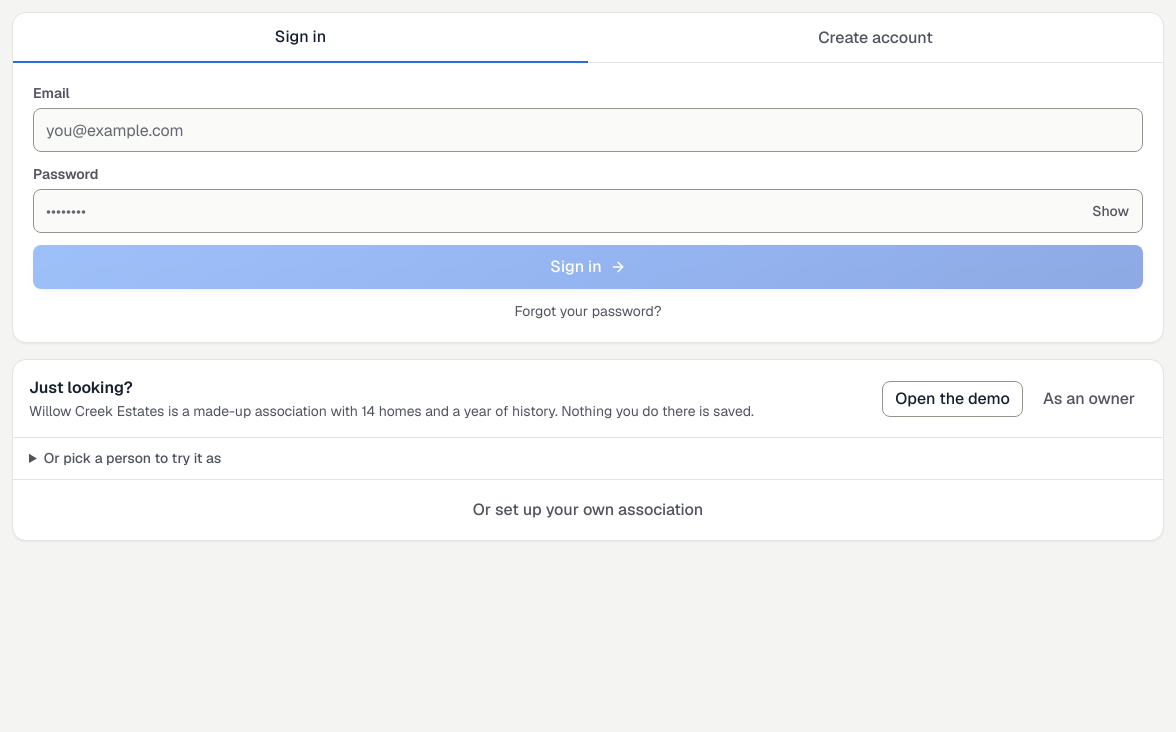
a failed sign in › does not follow the person to the Create account tab
Type "gwen@example.com" into the field labelled "Email" at (588, 130), box [33,108,1143,152]
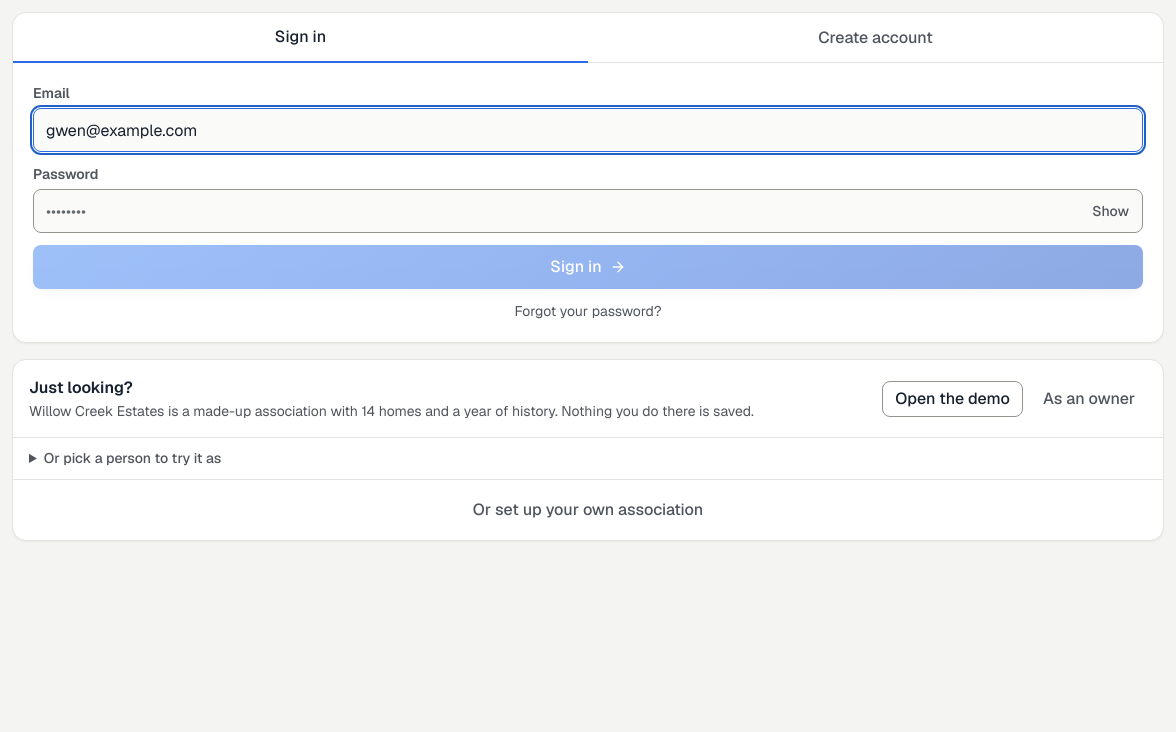
Type "wrong horse" into the password field labelled "Password Show" at (588, 211), box [33,189,1143,233]
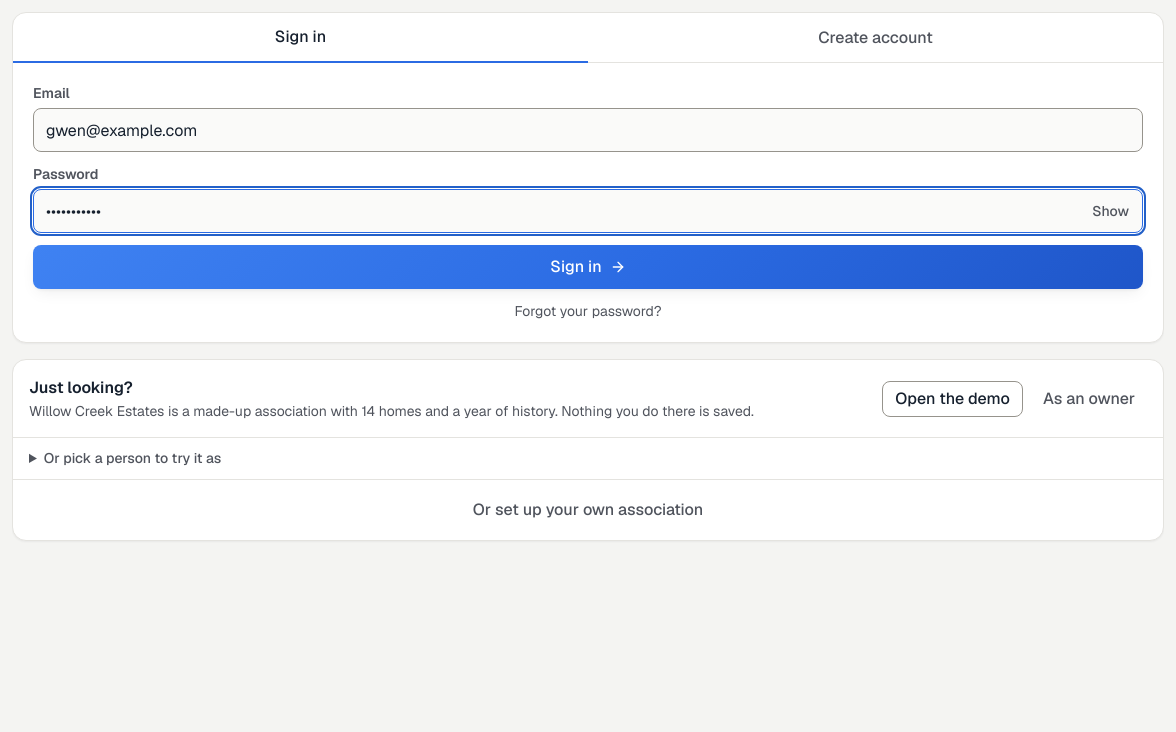
Click the button "Sign in" below "Email" at (588, 267), box [33,245,1143,289]
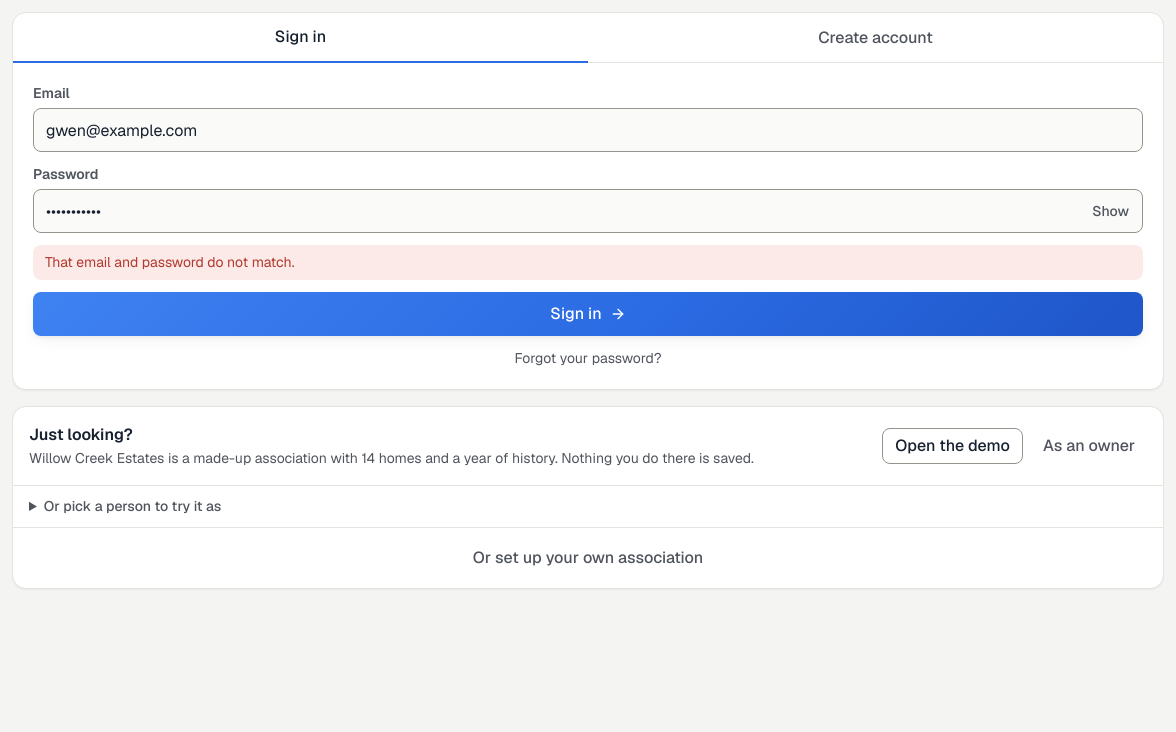
Expected: the message shows "do not match", [45,253,294,271]
Click the button "Create account" at (876, 38), box [588,13,1163,62]
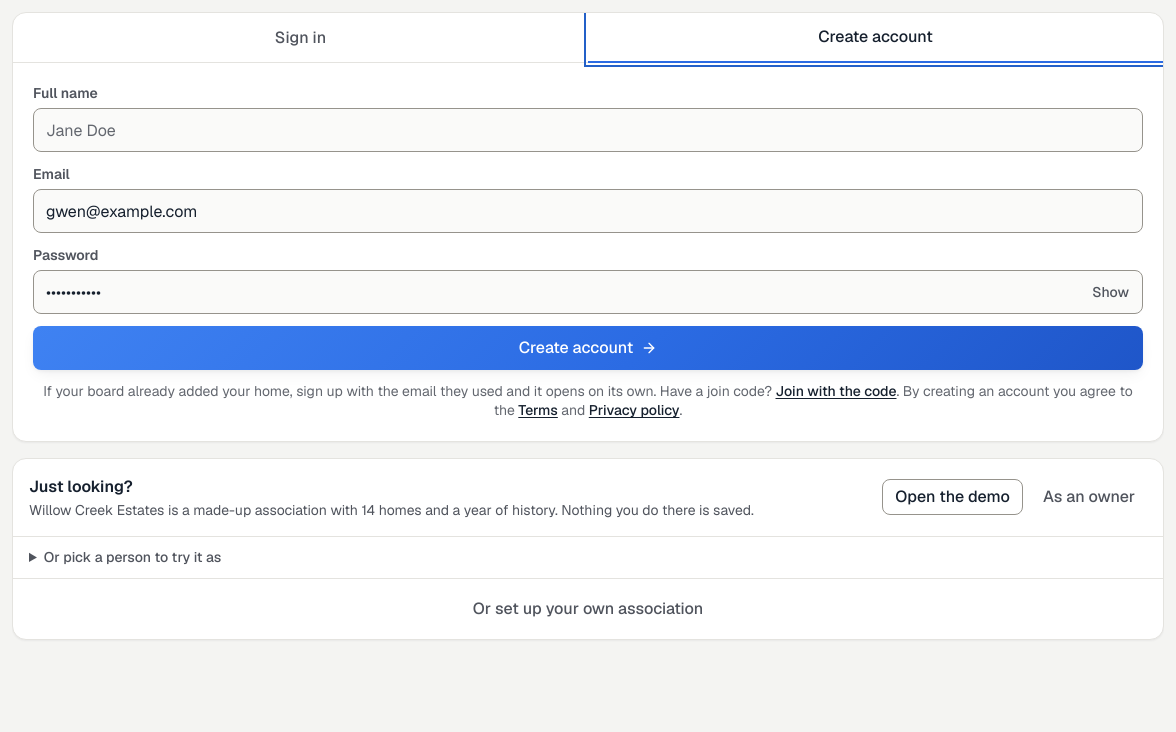
Expected: the message "That email and password do not match." is gone
